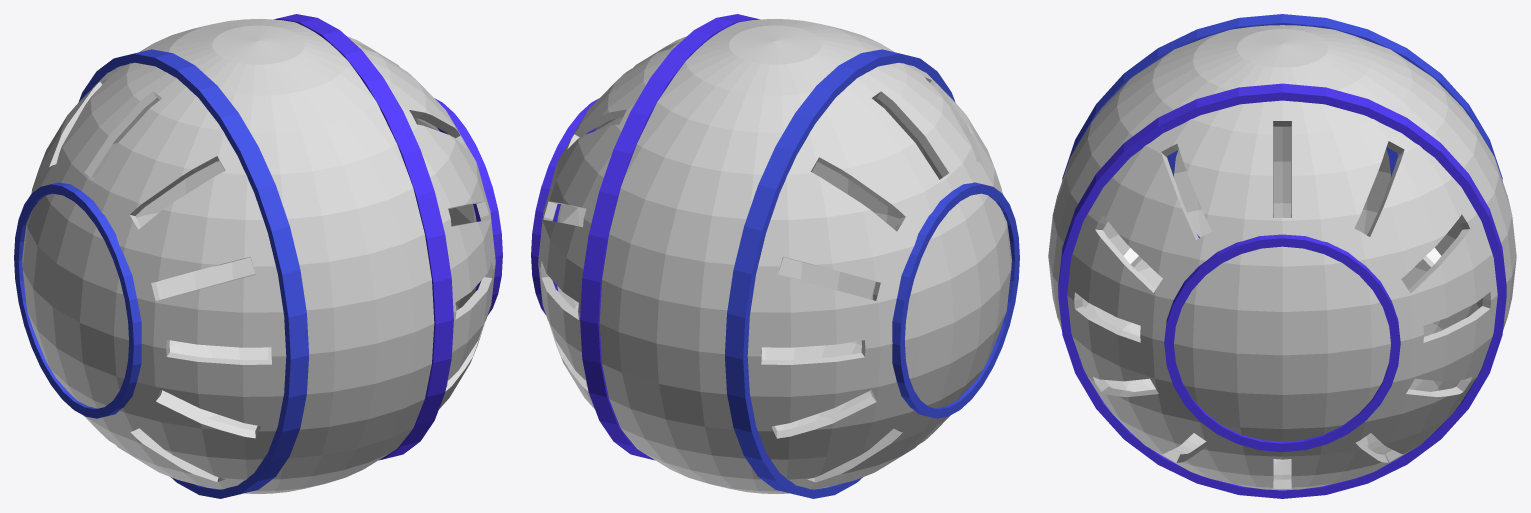
Rendered from Ball 1.fbx.
3 renders of one model, left to right at view 1: azimuth 30°, elevation 25°; view 2: azimuth 150°, elevation 25°; view 3: azimuth 270°, elevation 25°, orthographic.
Parts seen in each view (by area): view 1: Sphere; view 2: Sphere; view 3: Sphere.
Part boxes in pixels (bbox=[...]): Sphere: bbox=[14, 14, 502, 498]; Sphere: bbox=[531, 14, 1019, 498]; Sphere: bbox=[1048, 14, 1516, 498].
Bounding box in the file's own units: 200 × 200 × 200.
